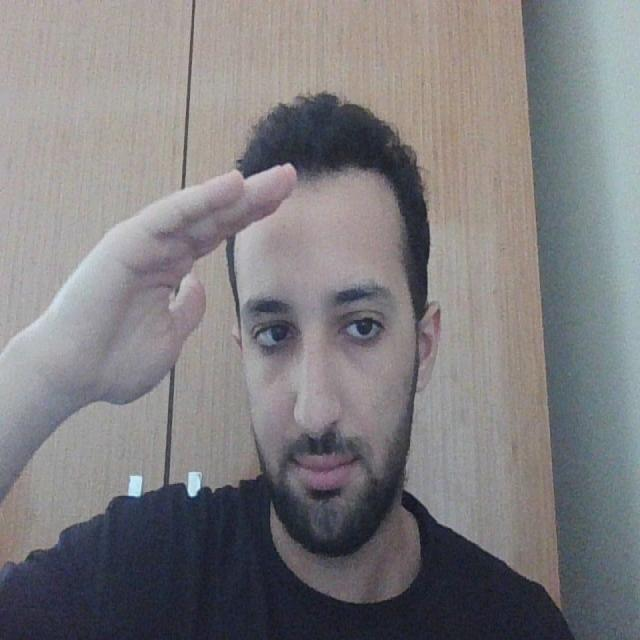Merhaba: (58, 147, 303, 481)
